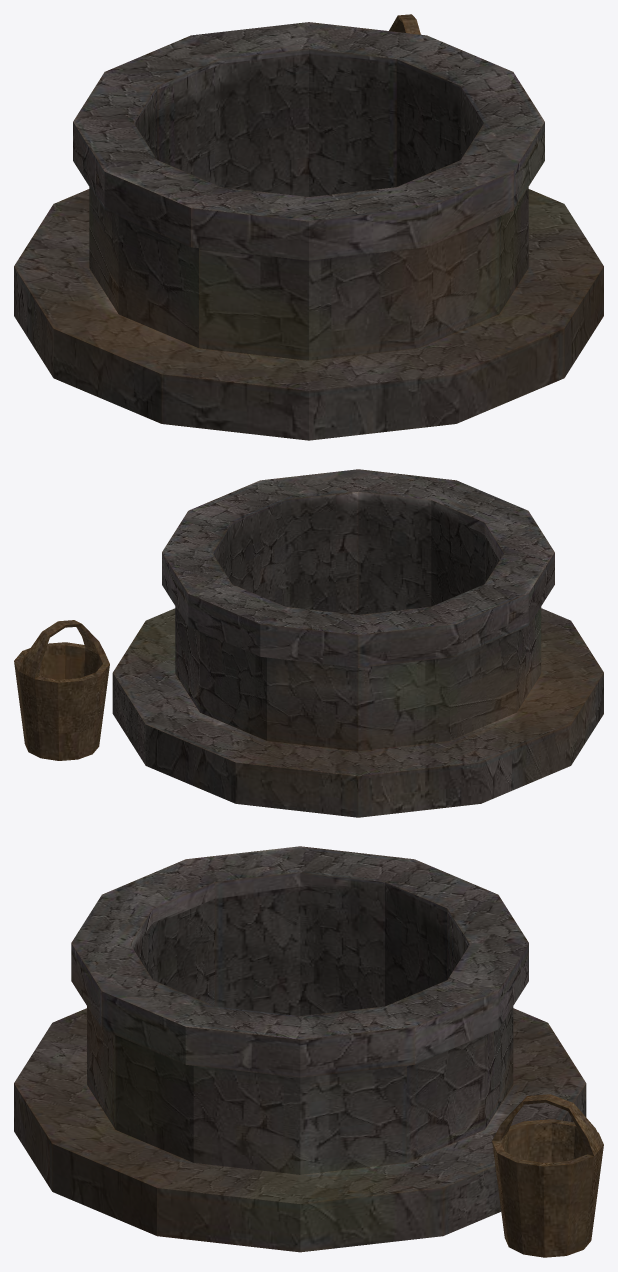
File: Well.glb
3 views of the same model, one above another, from view 1: azimuth 30°, elevation 25°; view 2: azimuth 150°, elevation 25°; view 3: azimuth 270°, elevation 25° (orthographic). The views are drawn at different scales.
Visible parts, largest first — view 1: Well; view 2: Well; view 3: Well.
Part boxes in pixels (x1,y1,x2,y2): Well: (14,14,603,440); Well: (14,469,603,817); Well: (14,846,603,1257).
Size of the model in its own units: 1.87 by 0.6503 by 1.85.
1 material, 1 textured.
